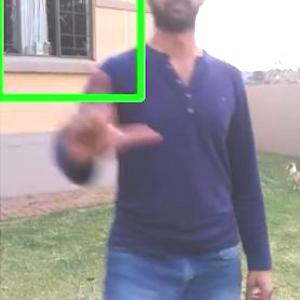land_hand: (50, 56, 163, 172)
